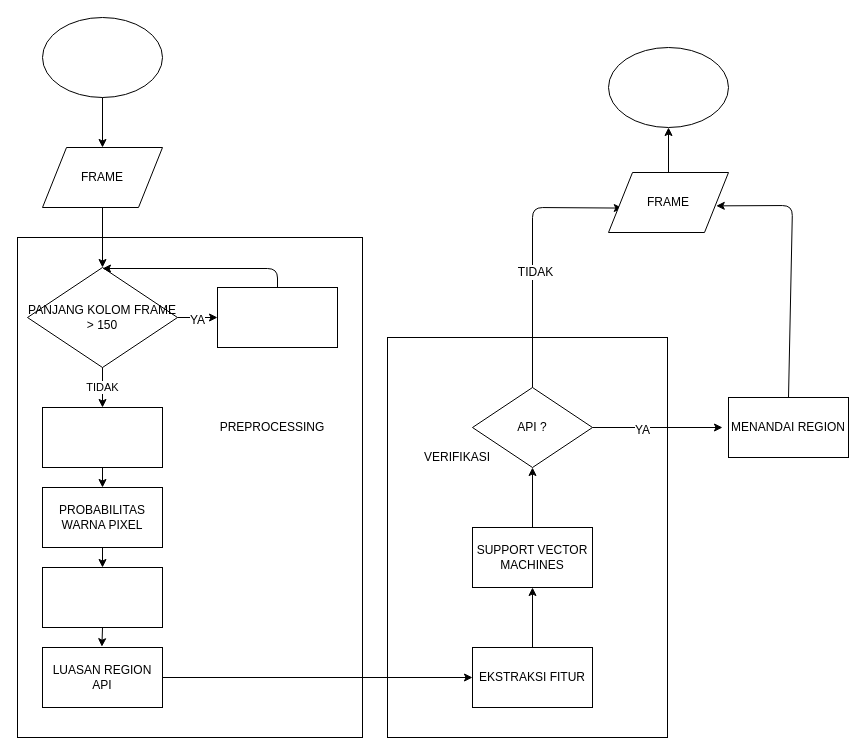
This 866x755 diagram has some shape labels left out. Each missing label, with the centre of its shape:
"DETEKSI GERAK" goes at pixel 102 437.
"MULAI" goes at pixel 102 57.
"PENGECILAN FRAME" goes at pixel 277 317.
"REGION GROWING" goes at pixel 102 597.
"SELESAI" goes at pixel 668 87.
